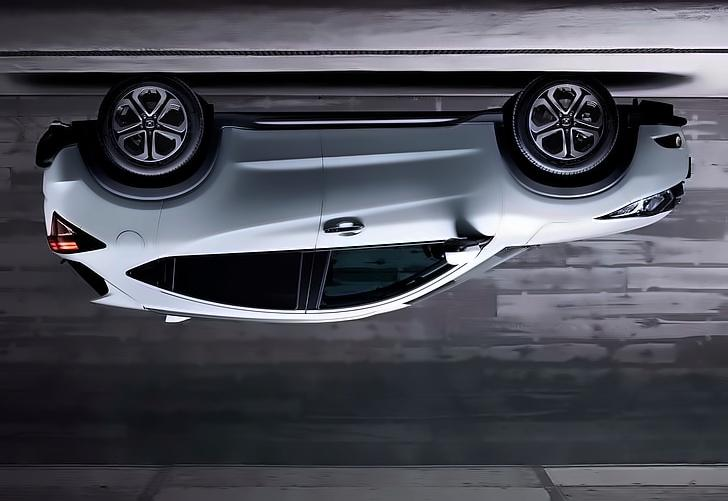Car hood: (517, 218, 666, 251)
Fender - -F-L-: (481, 118, 652, 248)
Fender - -R-L-: (56, 129, 235, 269)
Front bumper: (623, 113, 693, 203)
Headlight - -L-: (598, 178, 684, 219)
Passenger-s door - -F-L-: (298, 100, 504, 326)
Passenger-s door - -R-L-: (143, 100, 328, 323)
Rear bumper: (35, 114, 94, 203)
Rear light - -L-: (47, 212, 108, 256)
Side bumper - -L-: (210, 100, 508, 168)
